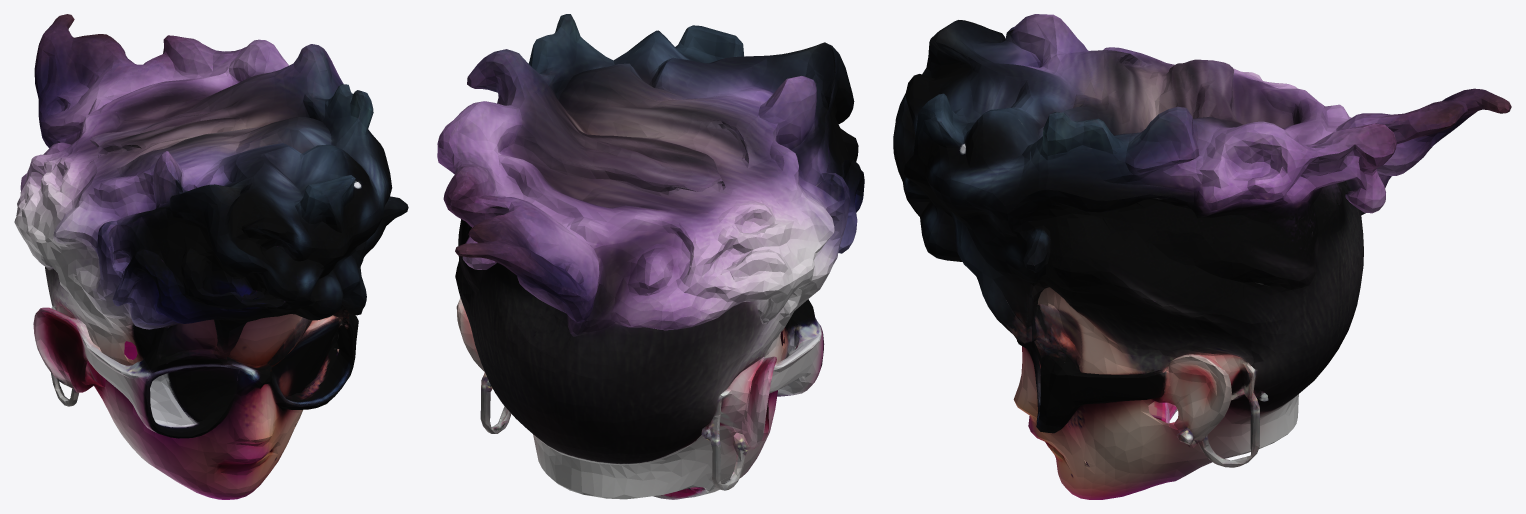
File: boyface.glb
The picture shows the model from 3 angles, left to right: view 1: azimuth 30°, elevation 25°; view 2: azimuth 150°, elevation 25°; view 3: azimuth 270°, elevation 25°; orthographic projection. The views are drawn at different scales.
Visible parts, largest first — view 1: world; view 2: world; view 3: world.
Boxes of the visible parts, <box> form: world: <box>14,14,408,499</box>; world: <box>437,14,864,499</box>; world: <box>893,14,1511,499</box>.
Bounding box in the file's own units: 0.603 × 0.71 × 0.8799.
Materials: 1 (1 with a texture image).
